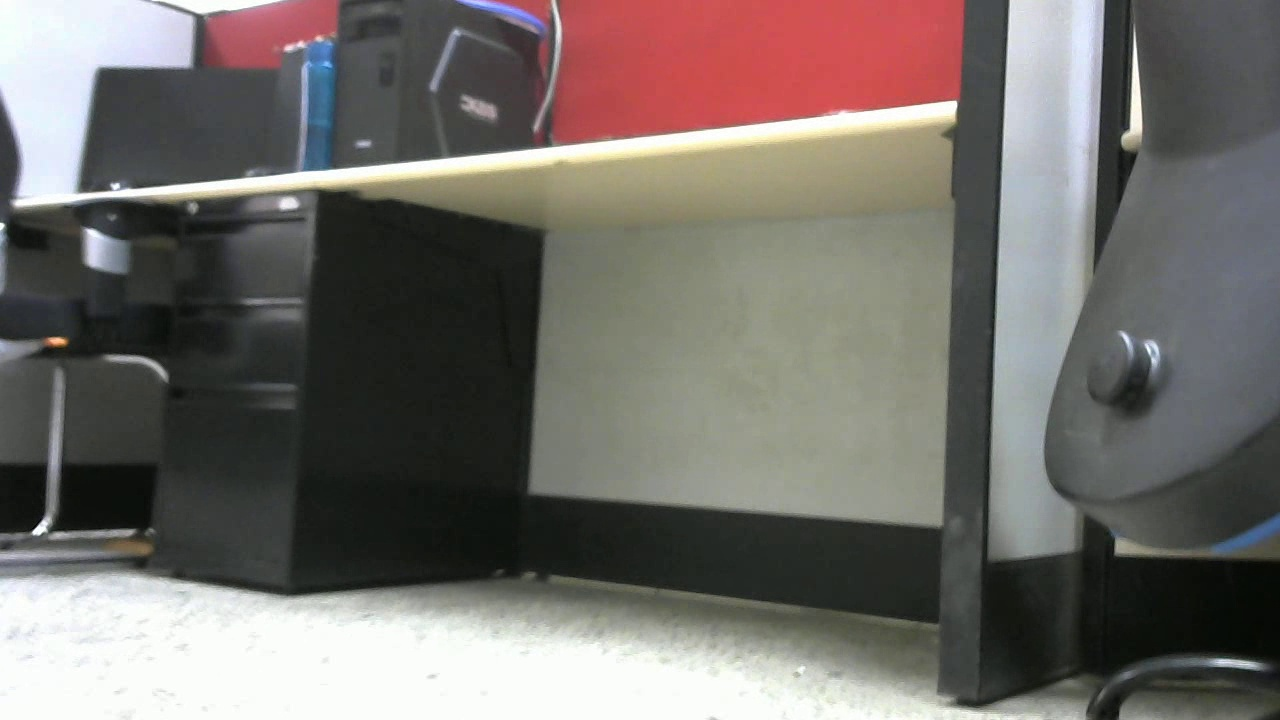chair: (1, 85, 203, 574)
